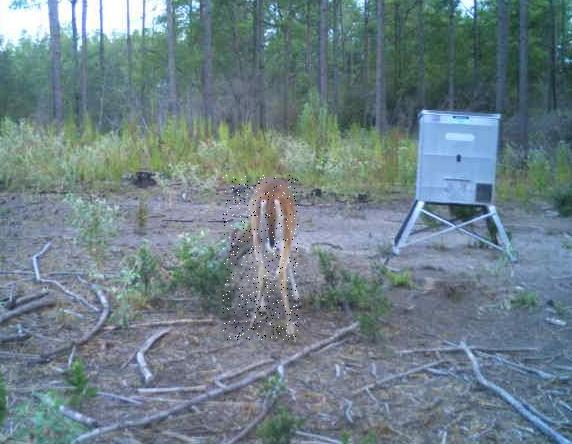Deer: (222, 175, 298, 340)
